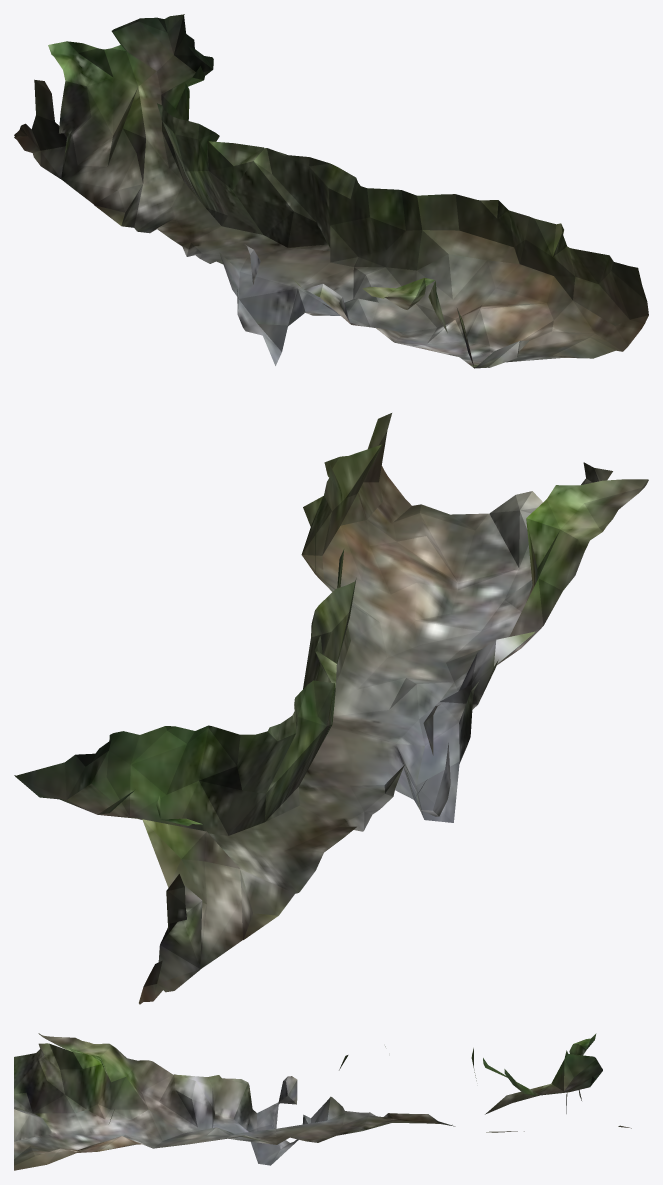
The picture shows the model from 3 angles, top to bottom: view 1: azimuth 30°, elevation 25°; view 2: azimuth 150°, elevation 25°; view 3: azimuth 270°, elevation 25°; orthographic projection. The views are drawn at different scales.
Bounding box in the file's own units: 8.28 × 5.77 × 26.11.
1 material, 1 textured.
